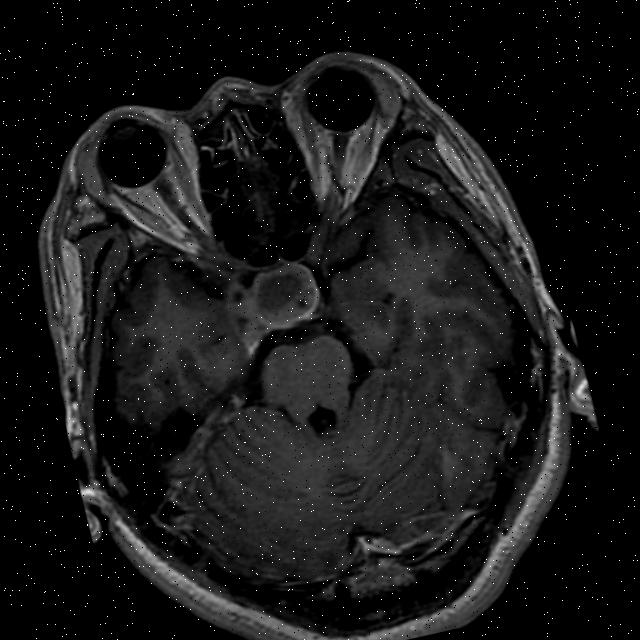Pituitary: (240, 247, 330, 340)
